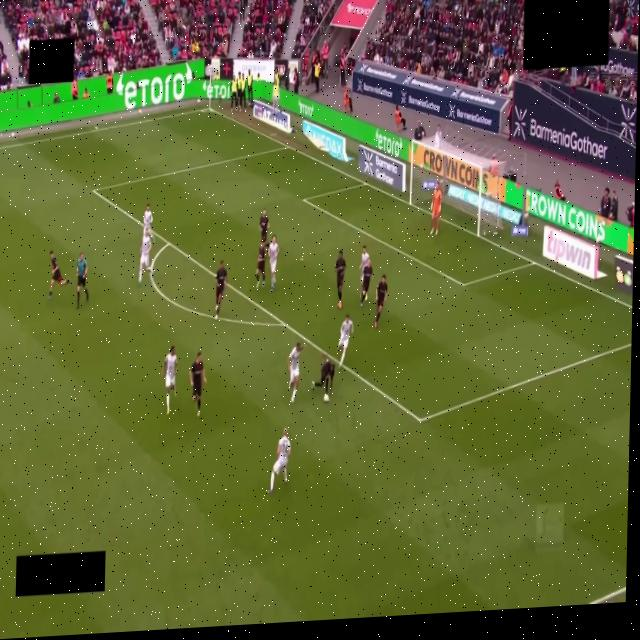ball: (324, 393, 330, 403)
player: (268, 429, 290, 493), (189, 352, 206, 417), (48, 252, 70, 300), (162, 346, 177, 414), (287, 342, 303, 402), (312, 356, 334, 395), (338, 315, 353, 367), (215, 260, 227, 318), (374, 275, 387, 328), (139, 231, 151, 284), (268, 235, 279, 291), (336, 251, 346, 308), (361, 260, 373, 305), (256, 242, 268, 287), (431, 183, 441, 235), (143, 204, 154, 242), (360, 246, 370, 285), (260, 210, 269, 243)
referee: (77, 253, 88, 308)
